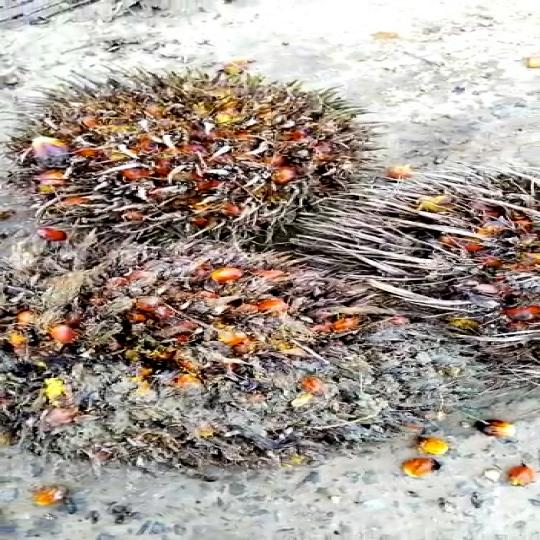terlalu masak: (0, 260, 440, 444), (0, 77, 387, 234)
